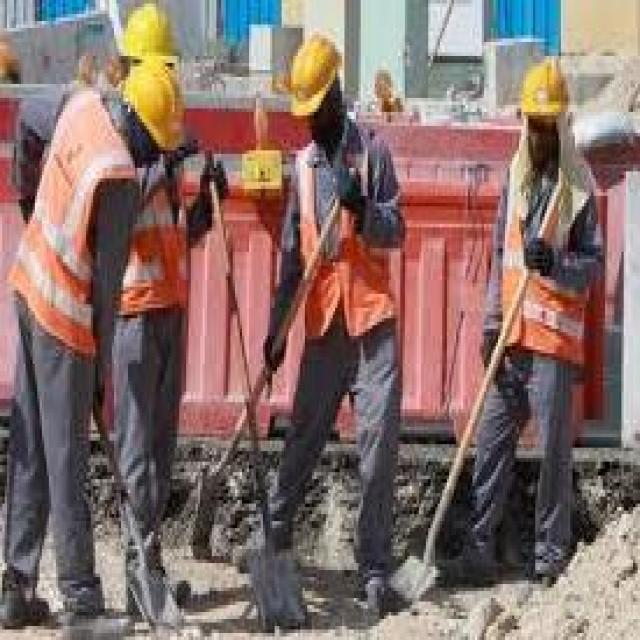Reflective-Jacket: (7, 84, 137, 360), (486, 154, 610, 388), (289, 129, 405, 357), (114, 147, 207, 332)
Safety-Helmet: (110, 56, 196, 157), (275, 24, 349, 130), (105, 0, 191, 77), (508, 46, 580, 136)
